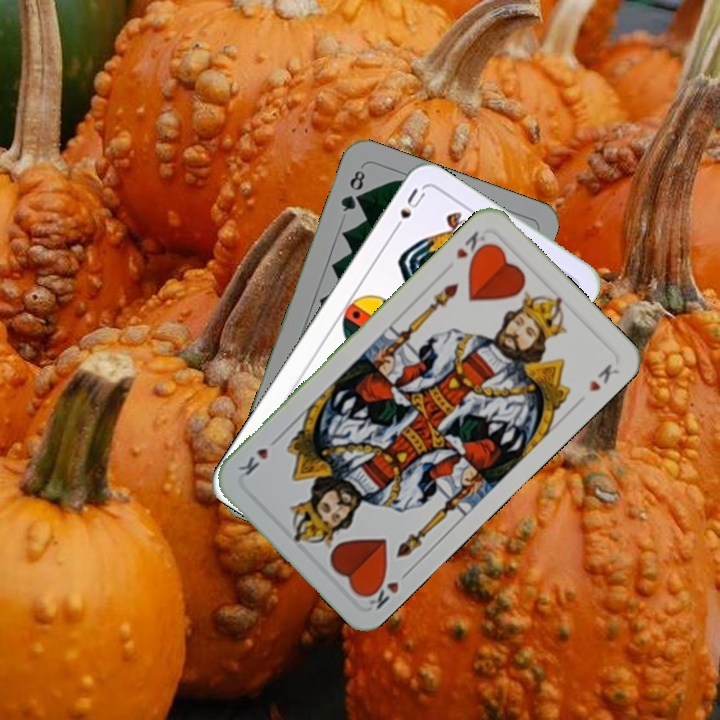G8: (336, 165, 368, 215)
HK: (360, 565, 413, 613), (451, 227, 492, 266)
SU: (387, 184, 428, 237)
